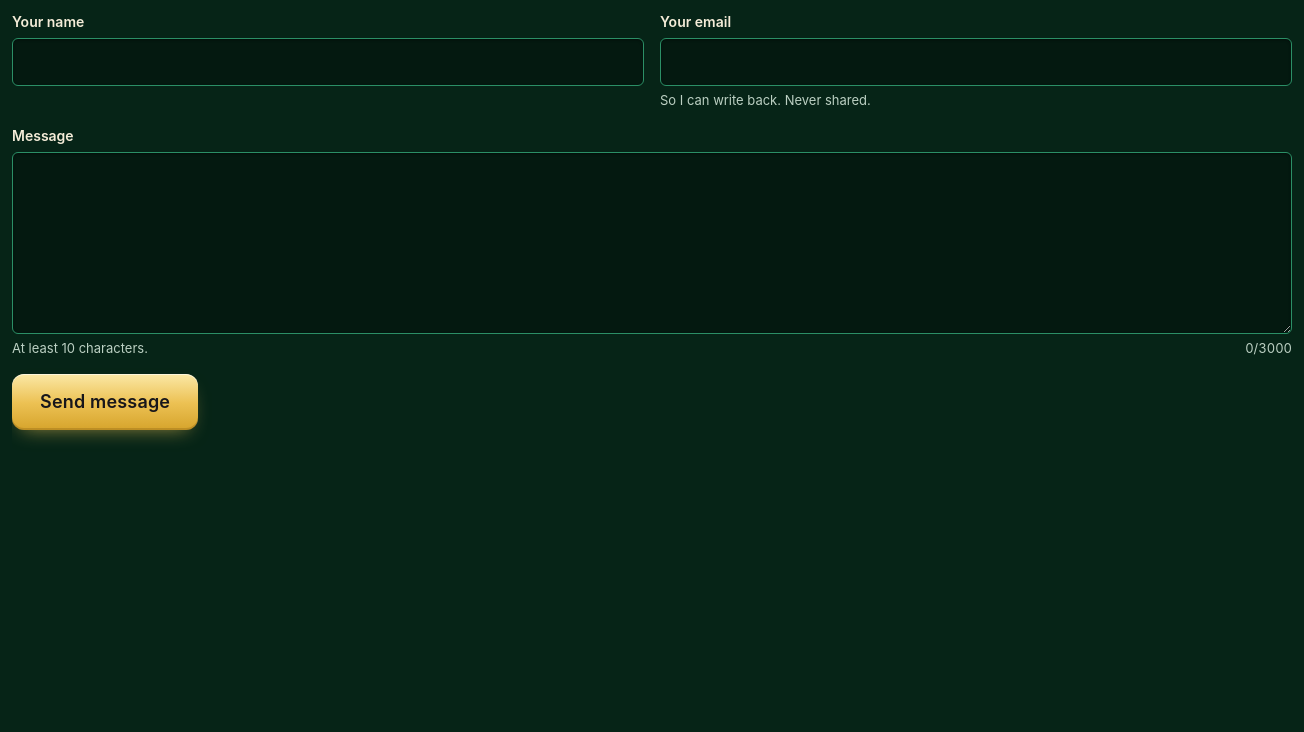
Test: ContactForm › shows the server error (e.g. rate limit) and field errors
Type "Asha" into the field labelled "Your name" at (328, 62), box [12, 38, 644, 86]
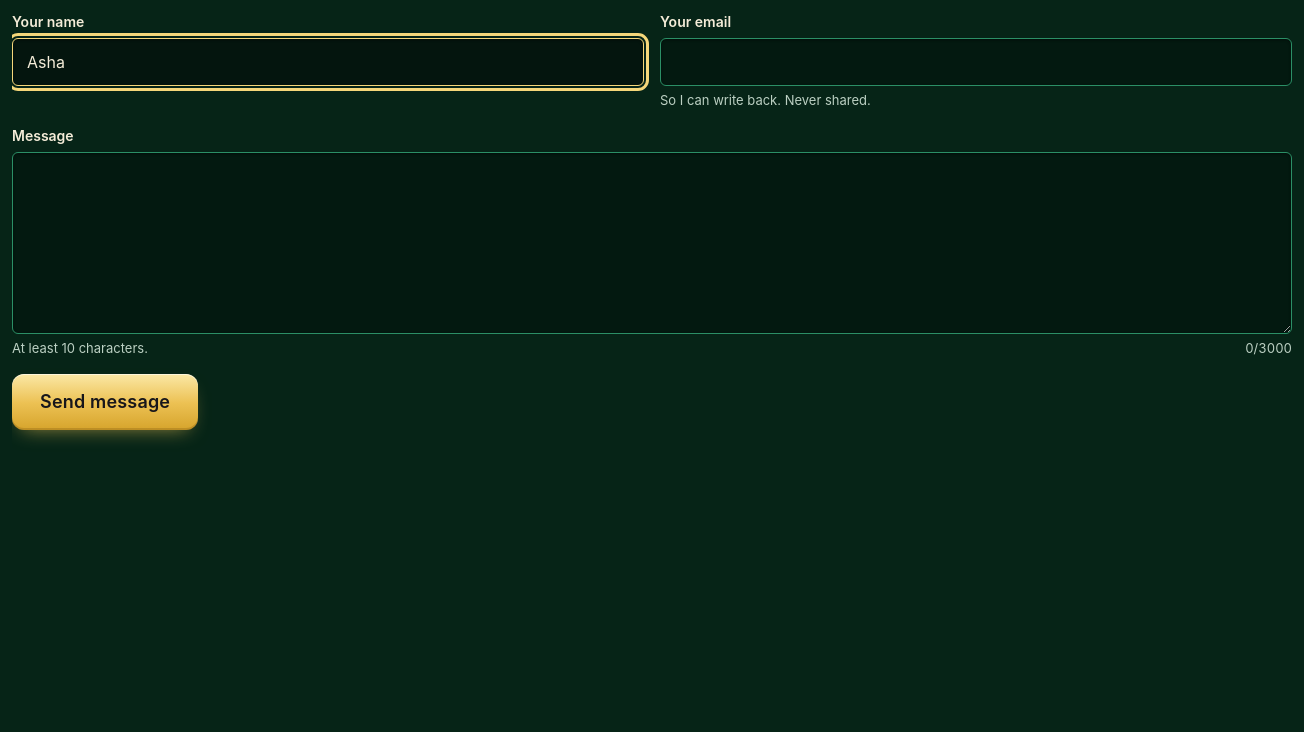
Type "asha@example.com" into the field labelled "Your email" at (976, 62), box [660, 38, 1292, 86]
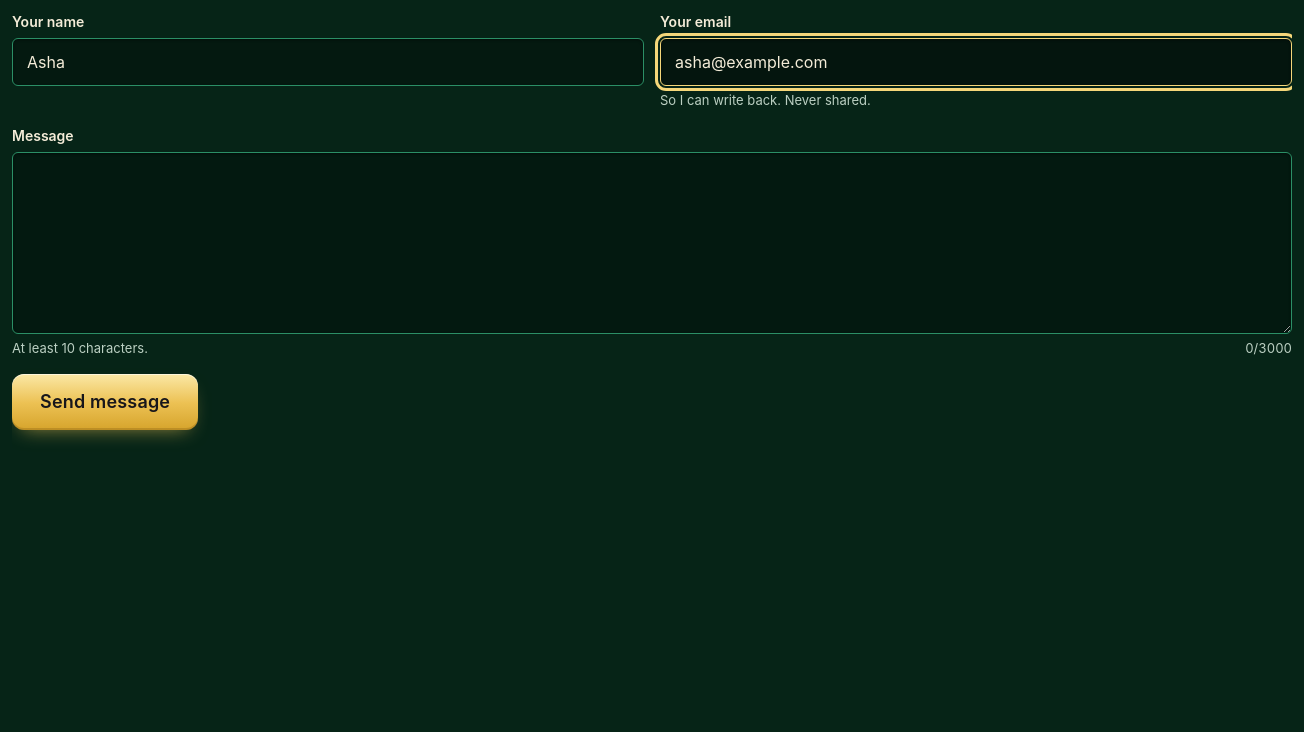
Type "Hello from the table!" into the text box labelled "Message" at (652, 243), box [12, 152, 1292, 334]
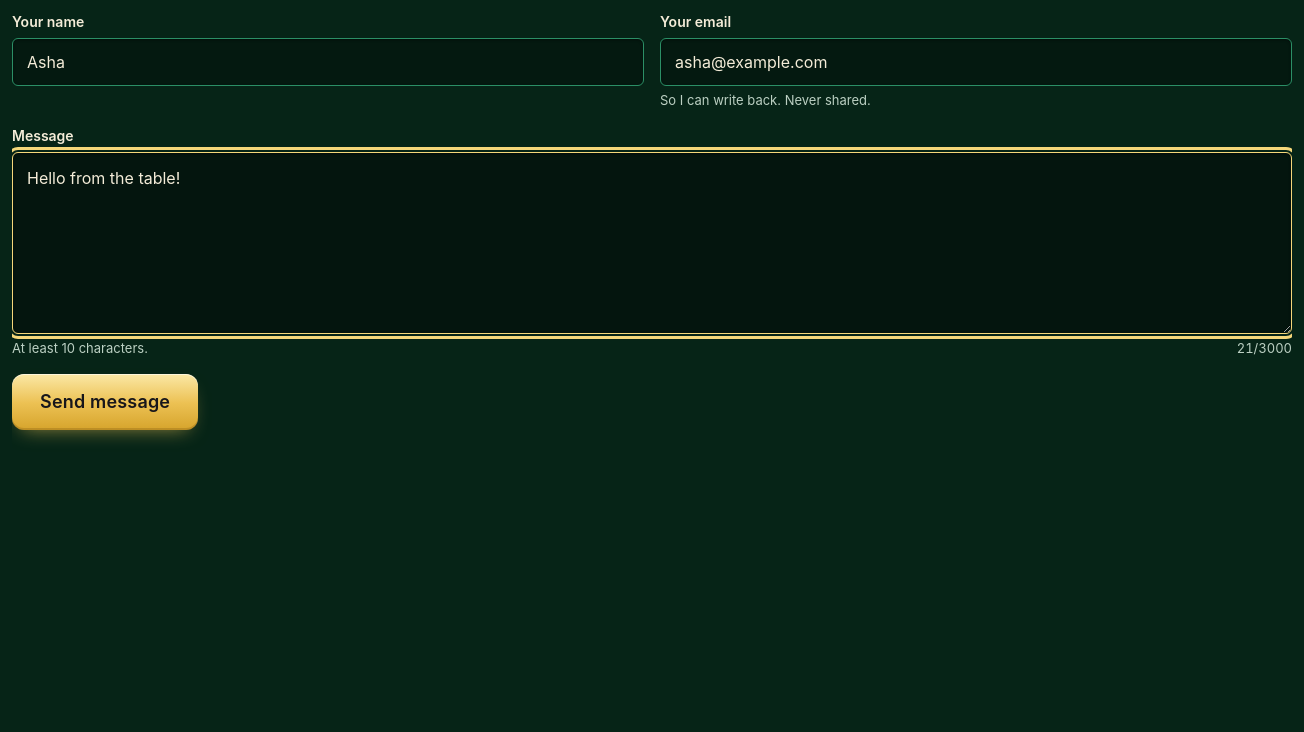
Click the button "Send message" at (105, 402), box [12, 374, 198, 430]
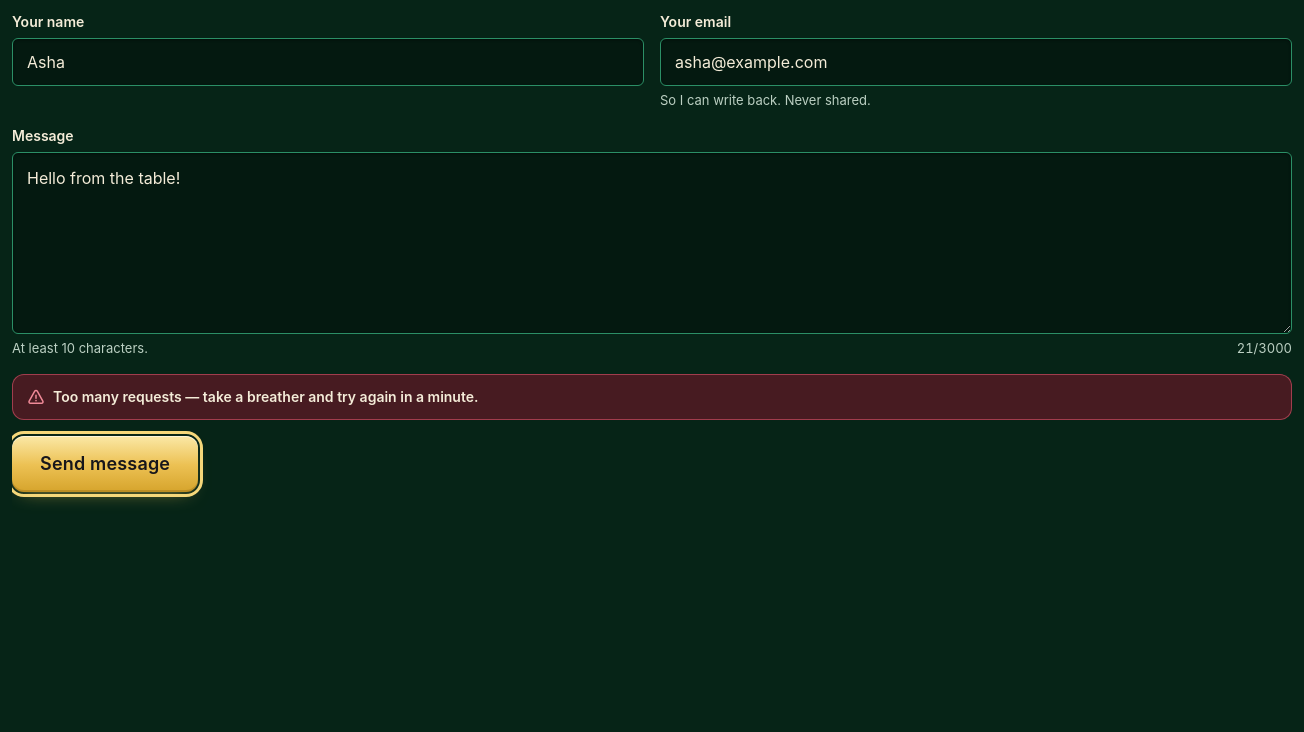
Result: the message reads "Too many requests — take a breather and try again in a minute." at [53, 388, 478, 405]
Click the button "Send message" at (105, 464), box [12, 436, 198, 492]
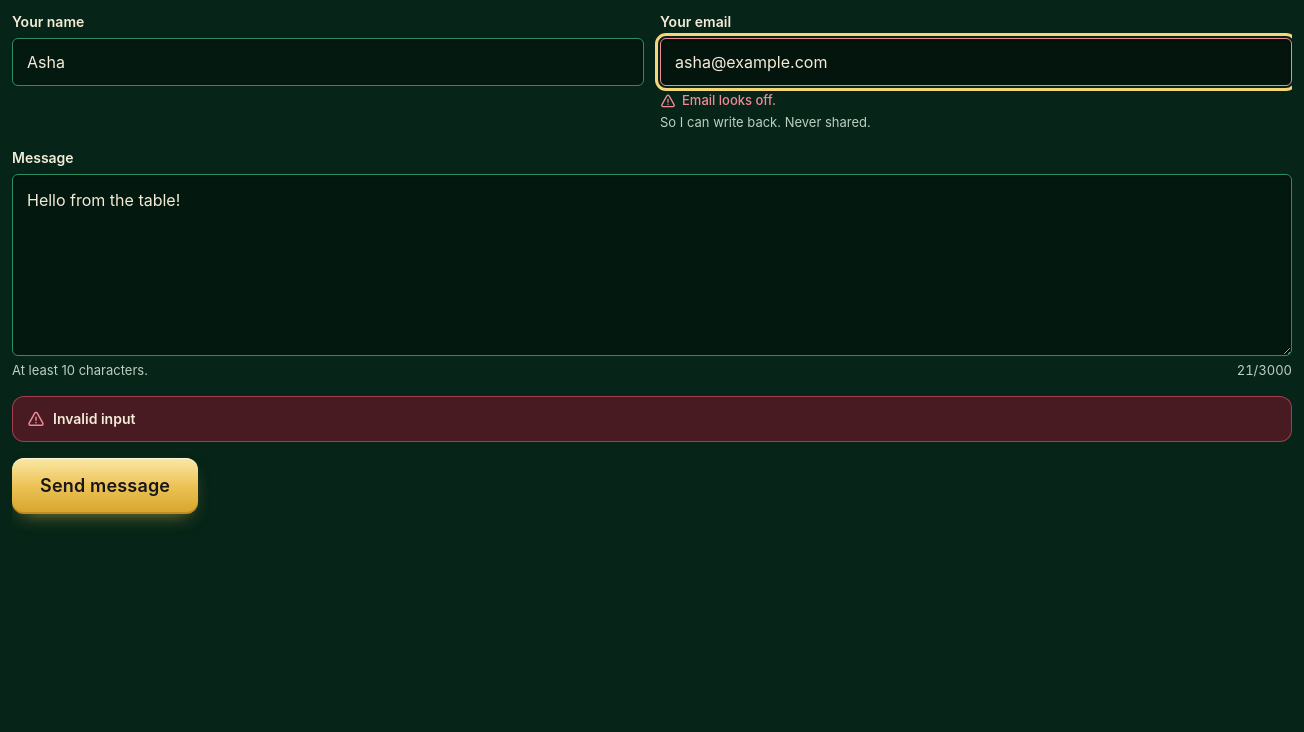
Result: the text "Email looks off." is shown at [682, 92, 776, 110]
Result: the message reads "Invalid input" at [53, 410, 135, 427]
